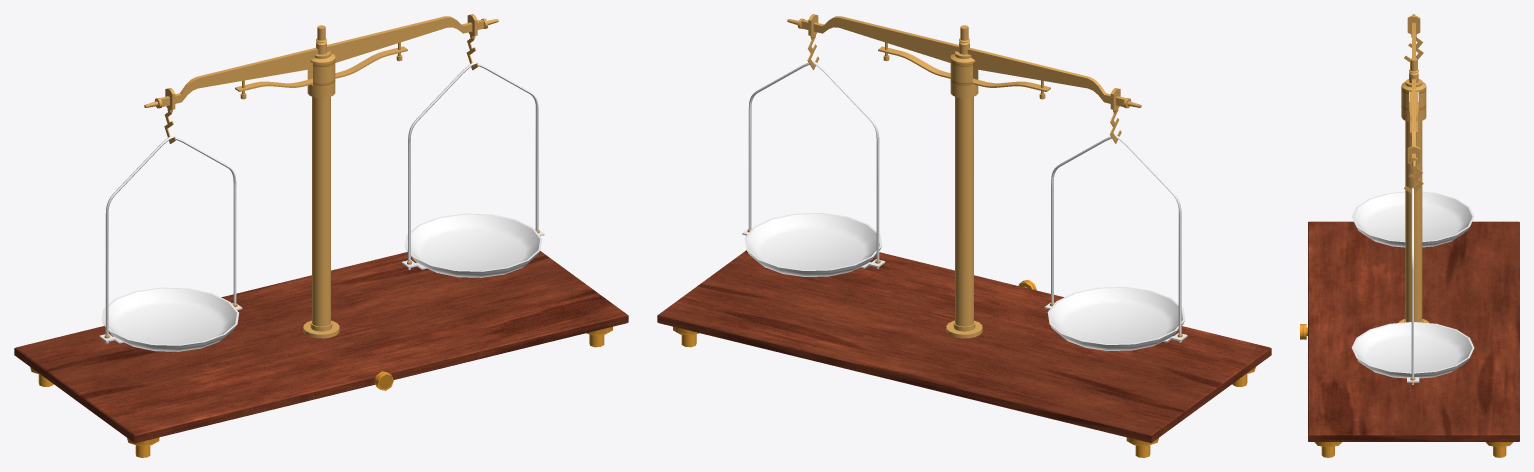
The model's file is timbanganMg.fbx.
3 renders of one model, left to right at view 1: azimuth 30°, elevation 25°; view 2: azimuth 150°, elevation 25°; view 3: azimuth 270°, elevation 25°, orthographic. The views are drawn at different scales.
Parts seen in each view (by area): view 1: table, Balance_WeightLeft, Balance_WeightRight, Balance_CenterPole, Balance_ScaleBeam, Balance_SupportRod; view 2: table, Balance_WeightRight, Balance_WeightLeft, Balance_CenterPole, Balance_ScaleBeam, Balance_SupportRod; view 3: table, Balance_WeightRight, Balance_WeightLeft, Balance_CenterPole, Balance_ScaleBeam.
Boxes of the visible parts, box(x1,y1,x2,y2) form: table: box(14, 251, 628, 457); Balance_WeightLeft: box(99, 88, 242, 351); Balance_WeightRight: box(401, 14, 544, 277); Balance_CenterPole: box(303, 25, 339, 338); Balance_ScaleBeam: box(144, 16, 498, 108); Balance_SupportRod: box(235, 42, 407, 99); table: box(657, 250, 1271, 457); Balance_WeightRight: box(742, 14, 885, 276); Balance_WeightLeft: box(1044, 88, 1187, 350); Balance_CenterPole: box(946, 25, 982, 338); Balance_ScaleBeam: box(787, 16, 1141, 108); Balance_SupportRod: box(878, 42, 1050, 99); table: box(1300, 221, 1519, 457); Balance_WeightRight: box(1351, 146, 1474, 384); Balance_WeightLeft: box(1352, 15, 1474, 247); Balance_CenterPole: box(1398, 57, 1429, 323); Balance_ScaleBeam: box(1409, 14, 1418, 168).
Bounding box in the file's own units: 82.46 × 53.73 × 35.94.
